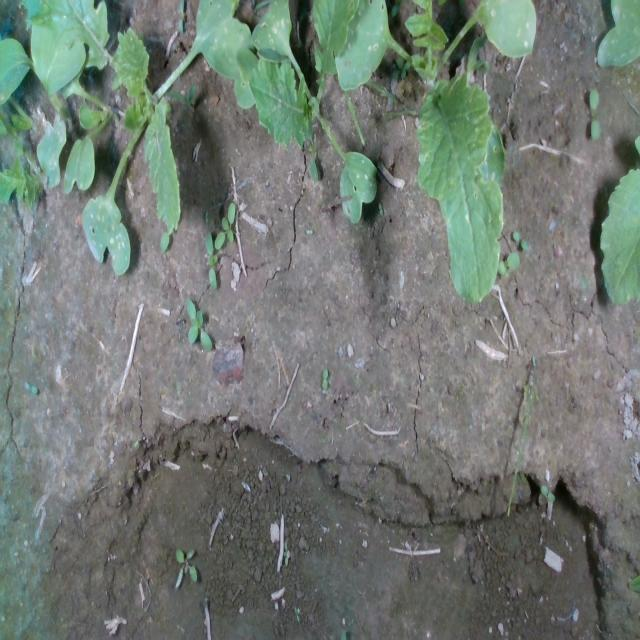weed: (184, 297, 212, 352), (174, 547, 198, 592), (587, 87, 601, 141), (511, 228, 529, 252), (540, 483, 555, 502), (24, 380, 38, 394), (322, 367, 328, 390), (377, 202, 383, 216)
